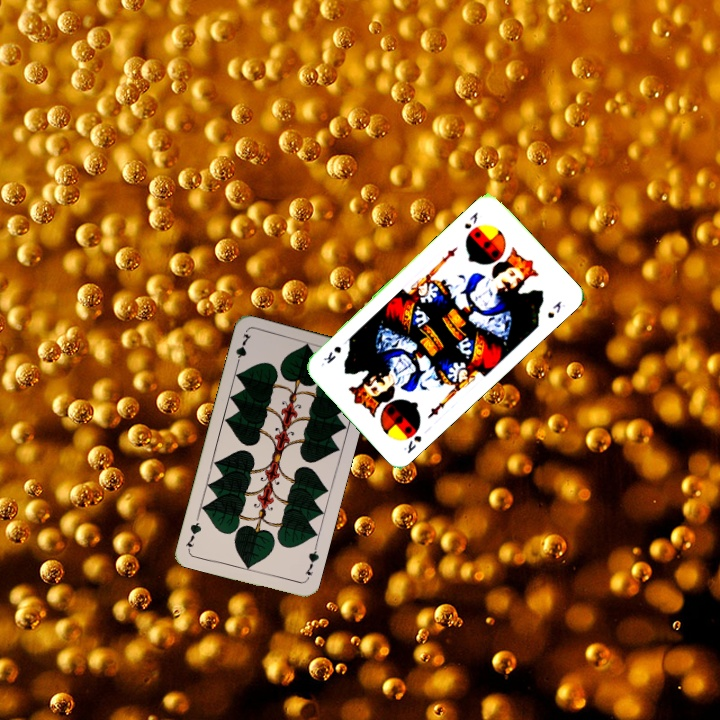G7: (231, 330, 254, 369), (301, 543, 322, 578)
SK: (399, 431, 424, 456), (460, 208, 481, 231)
